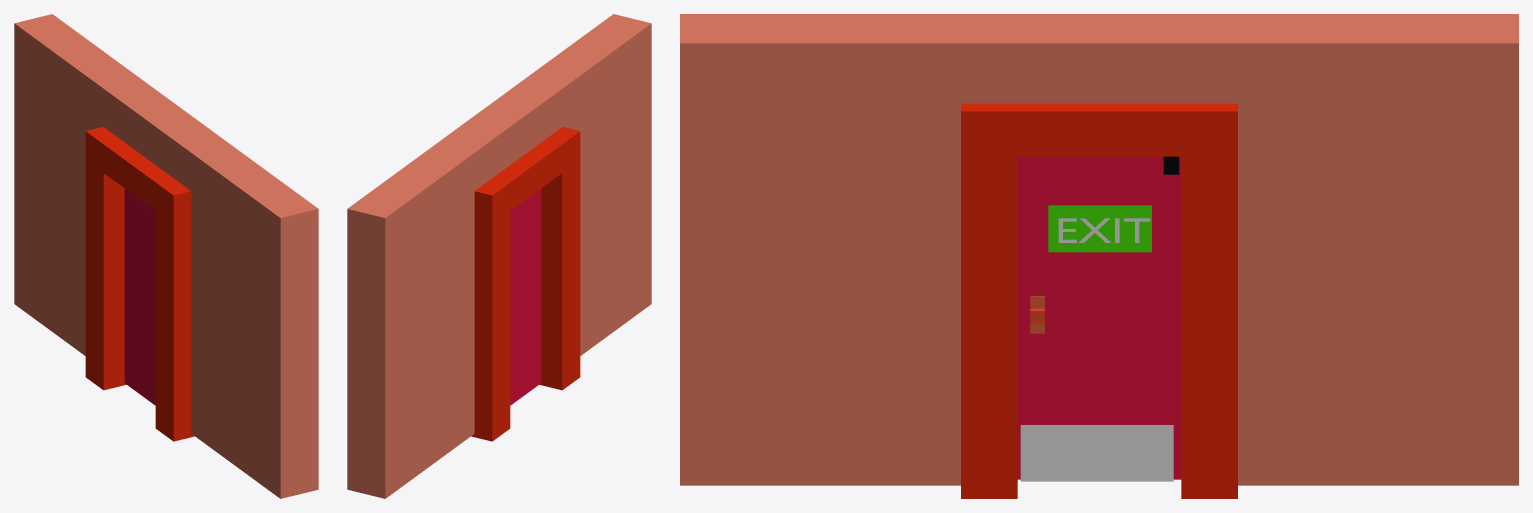
File: last part of door.fbx
3 views of the same model, side by side, from view 1: azimuth 30°, elevation 25°; view 2: azimuth 150°, elevation 25°; view 3: azimuth 270°, elevation 25° (orthographic). The views are drawn at different scales.
Visible parts, largest first — view 1: Cube, Cube.001, Cube.002; view 2: Cube, Cube.001, Cube.002; view 3: Cube, Cube.001, Cube.002, Cube.005, Cube.007, Text.
Boxes of the visible parts, box(x1,y1,x2,y2) form: Cube: box(14, 14, 318, 498); Cube.001: box(85, 127, 194, 441); Cube.002: box(124, 189, 155, 405); Cube: box(347, 14, 651, 498); Cube.001: box(471, 127, 580, 441); Cube.002: box(510, 189, 541, 405); Cube: box(680, 14, 1518, 485); Cube.001: box(961, 103, 1237, 498); Cube.002: box(1017, 156, 1181, 479); Cube.005: box(1020, 425, 1173, 481); Cube.007: box(1048, 205, 1151, 252); Text: box(1058, 218, 1150, 242).
Size of the model in its own units: 173 by 712 by 1208.
